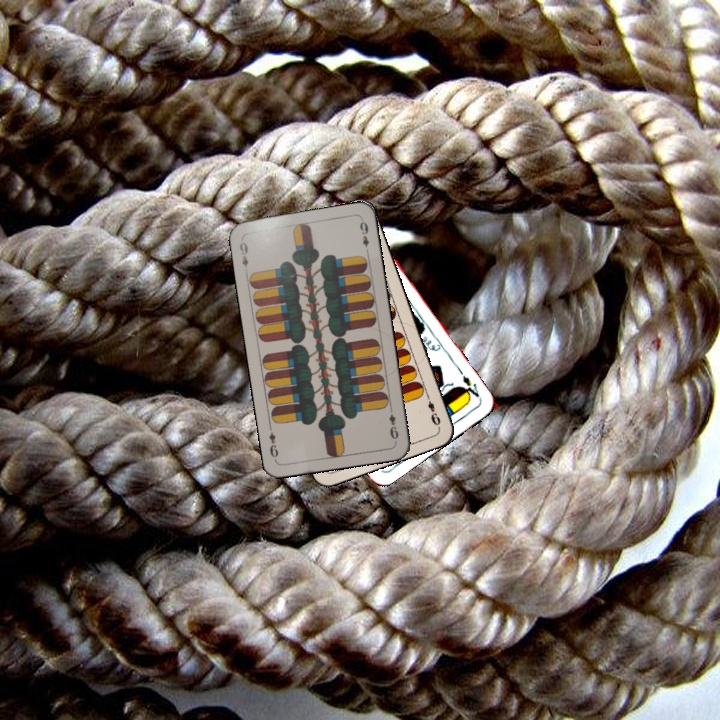E9: (422, 390, 443, 428), (385, 403, 401, 442), (235, 238, 251, 276)
EA: (458, 371, 484, 402)
